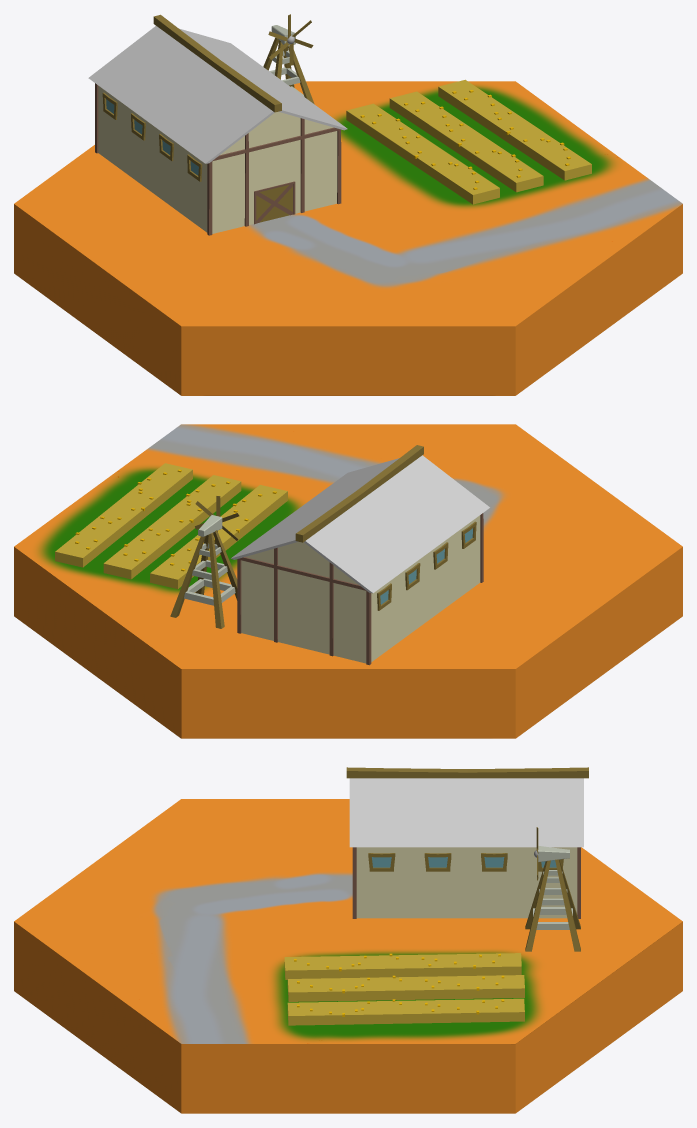
File: Tuile_Champ_Village_N2.fbx
The picture shows the model from 3 angles, top to bottom: view 1: azimuth 30°, elevation 25°; view 2: azimuth 150°, elevation 25°; view 3: azimuth 270°, elevation 25°; orthographic projection.
Visible parts, largest first — view 1: Circle, poutre toit.001, Cube.003, nIV2.001, Sphere; view 2: Circle, poutre toit.001, Cube.003, nIV2.001, Sphere; view 3: Circle, poutre toit.001, nIV2.001, Cube.003, Sphere.
Part boxes in pixels (box(x1,y1,x2,y2)): Circle: box(14, 81, 682, 395); poutre toit.001: box(95, 14, 341, 235); Cube.003: box(88, 26, 347, 163); nIV2.001: box(346, 79, 591, 204); Sphere: box(263, 14, 314, 104); Circle: box(14, 424, 682, 738); poutre toit.001: box(237, 445, 483, 665); Cube.003: box(231, 455, 489, 593); nIV2.001: box(55, 463, 287, 589); Sphere: box(170, 496, 239, 628); Circle: box(14, 799, 682, 1113); poutre toit.001: box(346, 767, 588, 918); nIV2.001: box(284, 953, 524, 1025); Cube.003: box(349, 778, 583, 847); Sphere: box(525, 827, 580, 951).
Size of the model in its own units: 107 by 38.19 by 124.
